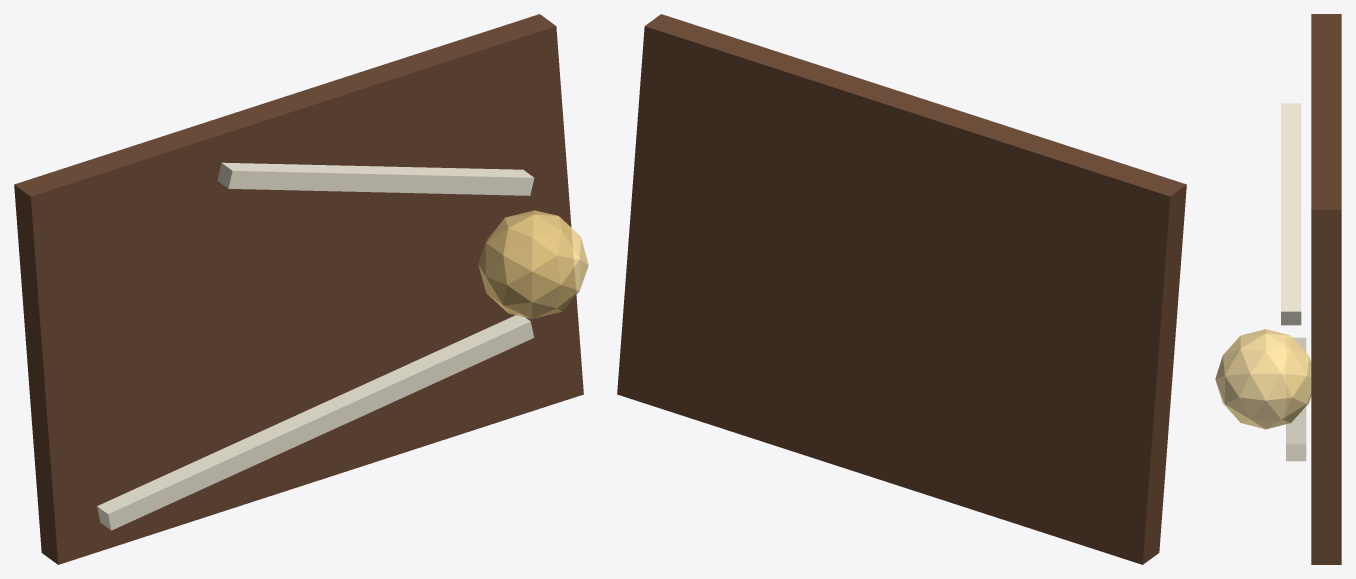
Rendered from 02_world_prop_polish.glb.
3 views of the same model, side by side, from view 1: azimuth 30°, elevation 25°; view 2: azimuth 150°, elevation 25°; view 3: azimuth 270°, elevation 25° (orthographic). The views are drawn at different scales.
Parts seen in each view (by area): view 1: object_overlay_plate, edge_wear_a, glow_socket, edge_wear_b; view 2: object_overlay_plate; view 3: object_overlay_plate, glow_socket, edge_wear_b, edge_wear_a.
Part boxes in pixels (x1,y1,x2,y2): object_overlay_plate: (14,14,583,564); edge_wear_a: (97,314,533,530); glow_socket: (478,210,588,318); edge_wear_b: (217,162,534,195); object_overlay_plate: (617,14,1186,564); object_overlay_plate: (1311,14,1341,564); glow_socket: (1215,329,1311,429); edge_wear_b: (1281,103,1301,325); edge_wear_a: (1286,337,1306,461).
Bounding box in the file's own units: 1.15 × 0.832 × 0.25.
